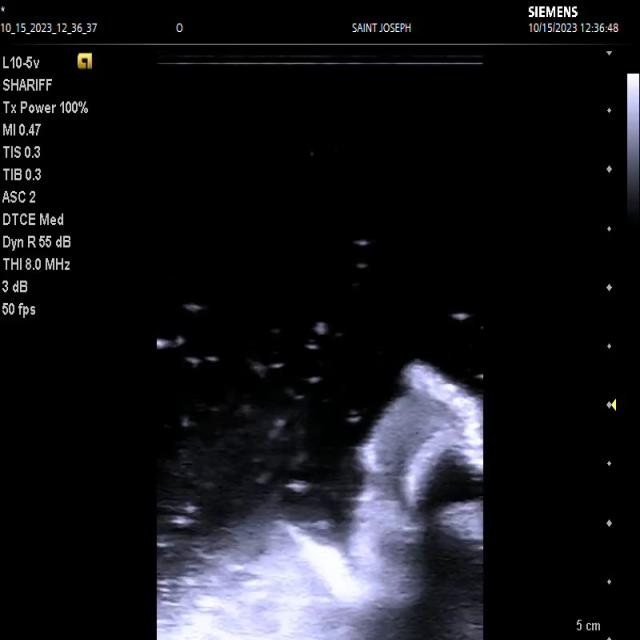tissue: (161, 362, 483, 640)
